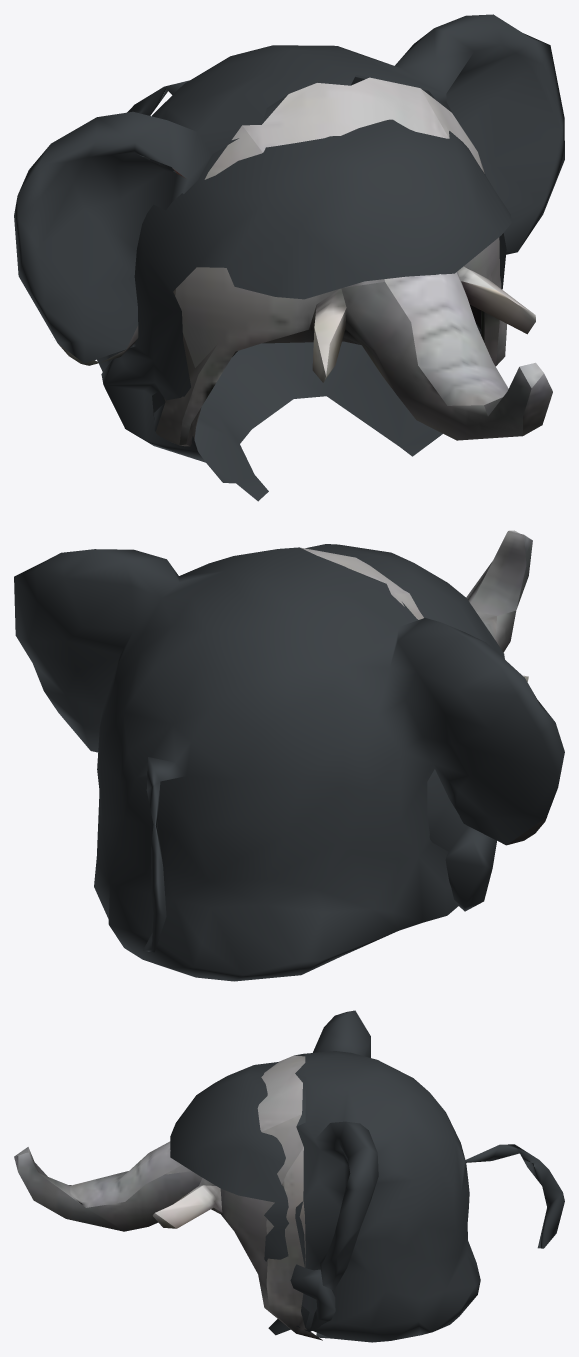
Rendered from elephant.glb.
3 renders of one model, top to bottom at view 1: azimuth 30°, elevation 25°; view 2: azimuth 150°, elevation 25°; view 3: azimuth 270°, elevation 25°, orthographic. The views are drawn at different scales.
Parts seen in each view (by area): view 1: geometry_0, HoodAnatomicalLining; view 2: geometry_0, HoodAnatomicalLining; view 3: geometry_0, HoodAnatomicalLining.
Part boxes in pixels (x1,y1,x2,y2): geometry_0: (14,14,564,446); HoodAnatomicalLining: (101,94,511,501); geometry_0: (14,530,564,981); HoodAnatomicalLining: (305,544,504,911); geometry_0: (14,1010,564,1342); HoodAnatomicalLining: (170,1062,335,1335).
Size of the model in its own units: 0.66 by 0.4255 by 0.8531.
Materials: 2 (1 with a texture image).
